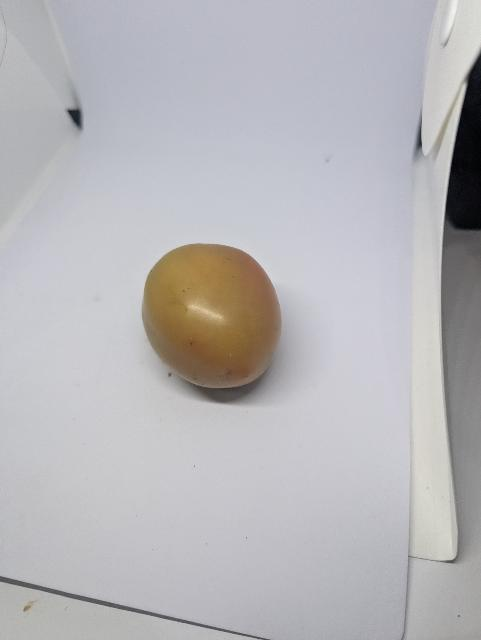turning: (138, 240, 284, 392)
